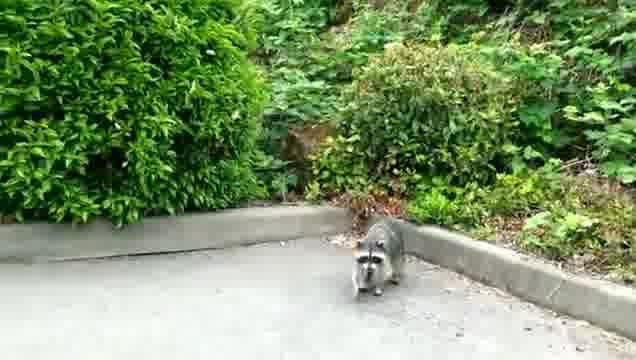raccoon: (351, 216, 410, 299)
